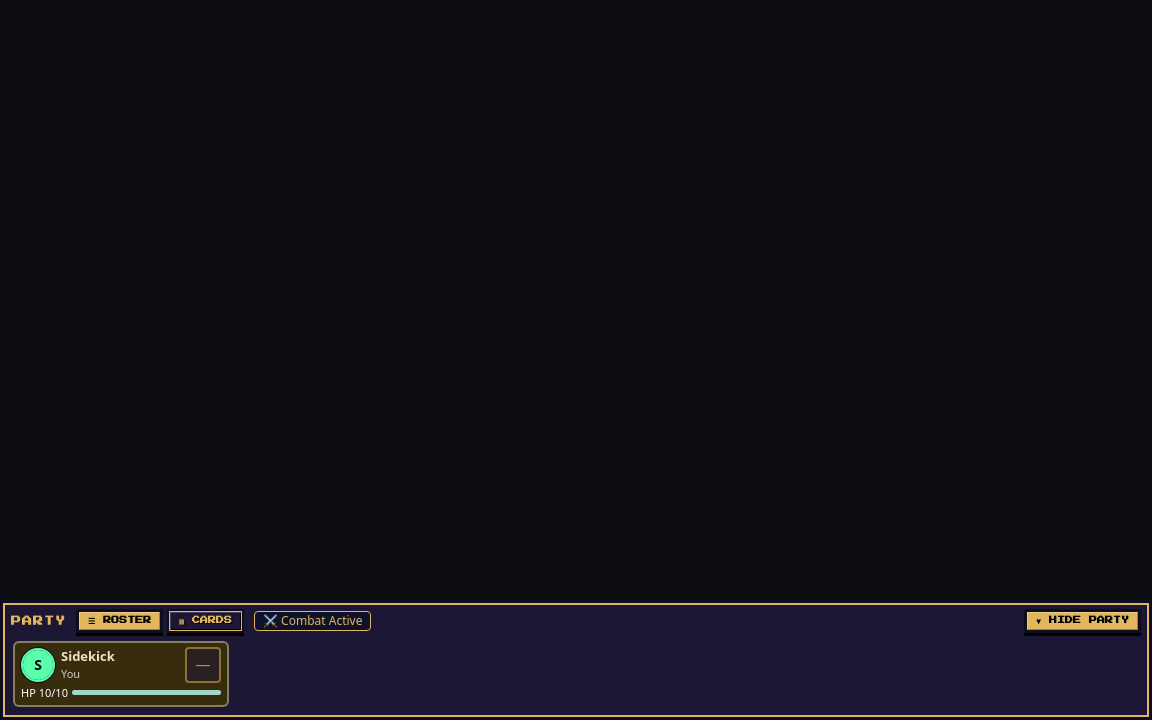
Test case: EntitiesPanel — the DM's own character: the bench and the order (F3) › unrolled and nothing spent: the bench (the DM group), and no control
Click the button "▦ Cards" at (206, 620), box [167, 608, 244, 632]
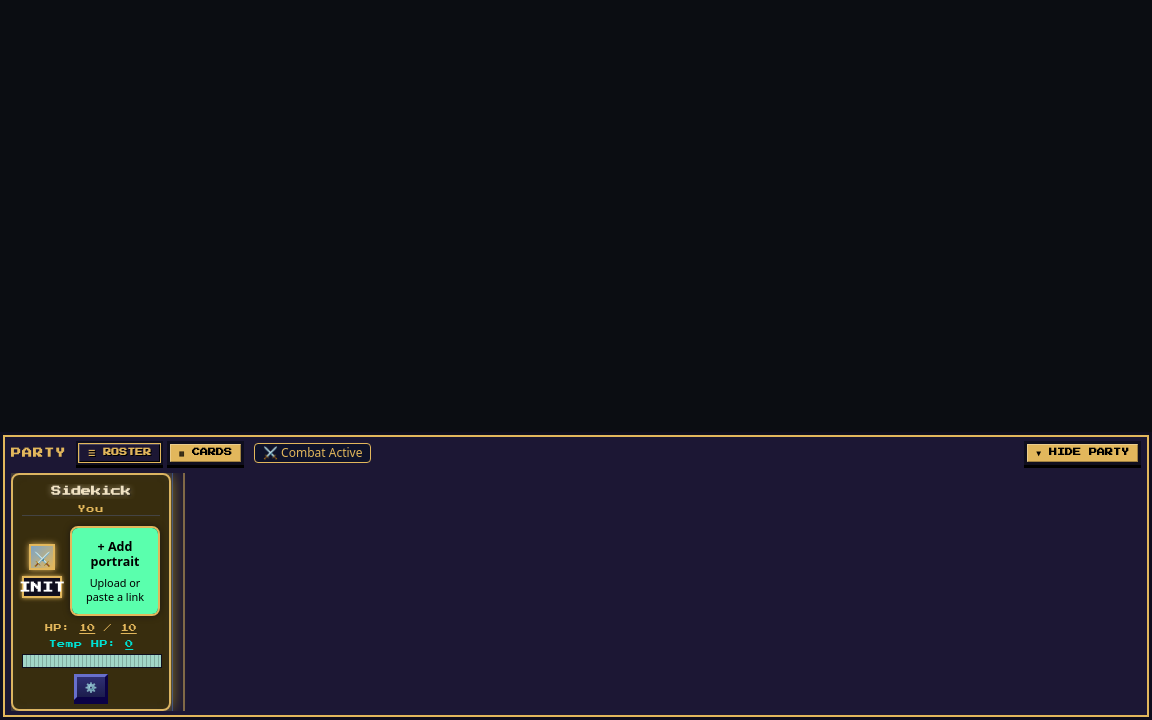
Expected: the text "Sidekick" is shown, [51, 486, 131, 496]
Click the button with aria-label "Change portrait" at (115, 571), box [70, 526, 160, 616]
(page scrolled)
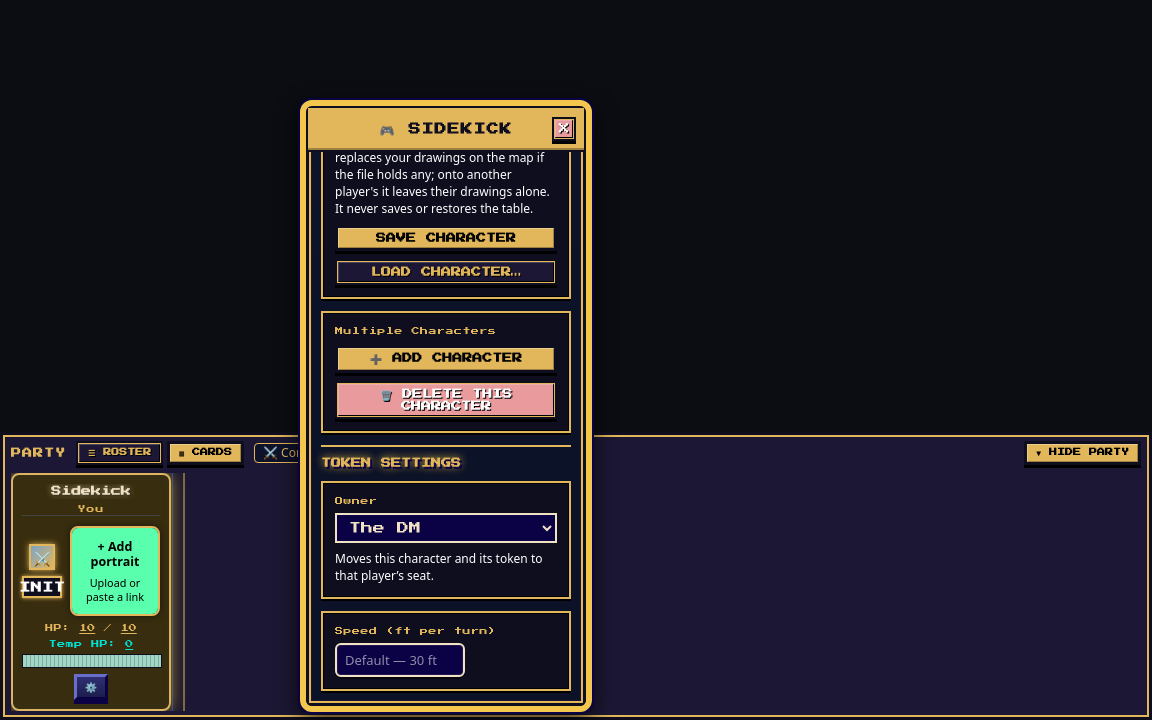
Expected: the number field named "Movement speed in feet per turn" is shown, [335, 643, 465, 677]
